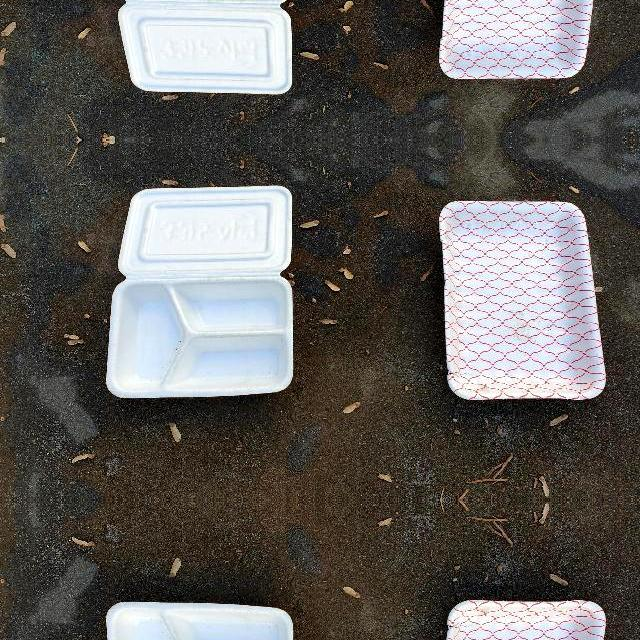Styrofoam: (106, 186, 294, 400), (106, 185, 293, 398), (440, 200, 607, 400), (440, 200, 606, 400), (105, 0, 294, 94), (117, 0, 292, 95), (440, 0, 605, 80), (440, 0, 594, 80), (440, 600, 605, 640), (447, 600, 607, 640)
